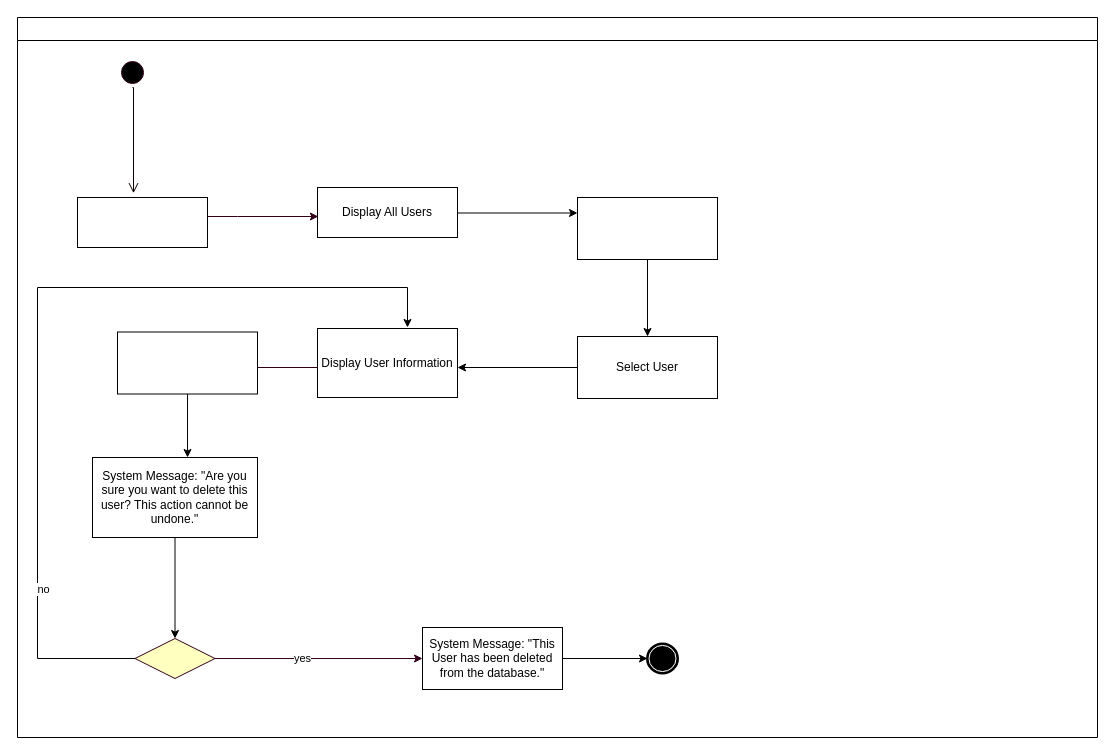
This 1115x755 diagram has some shape labels left out. The shapes that lost their labels are listed below. From the top down, each one's centre as x and y in pixels, then its label:
(x=142, y=222): Select 'Manage Users' option
(x=647, y=228): Search for User
(x=187, y=362): Select "Delete User' option
